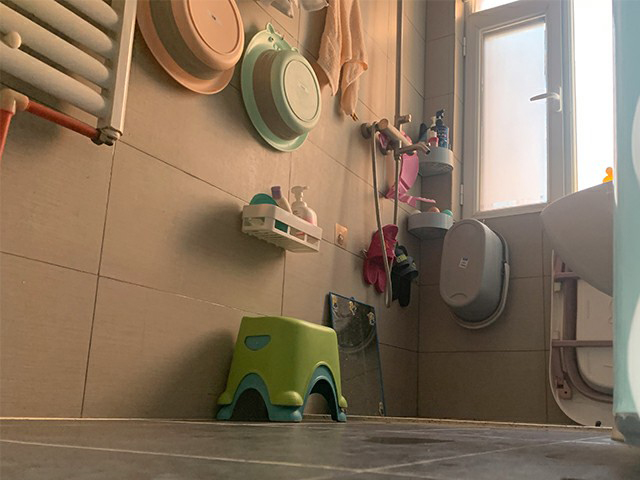stool: (215, 315, 349, 423)
